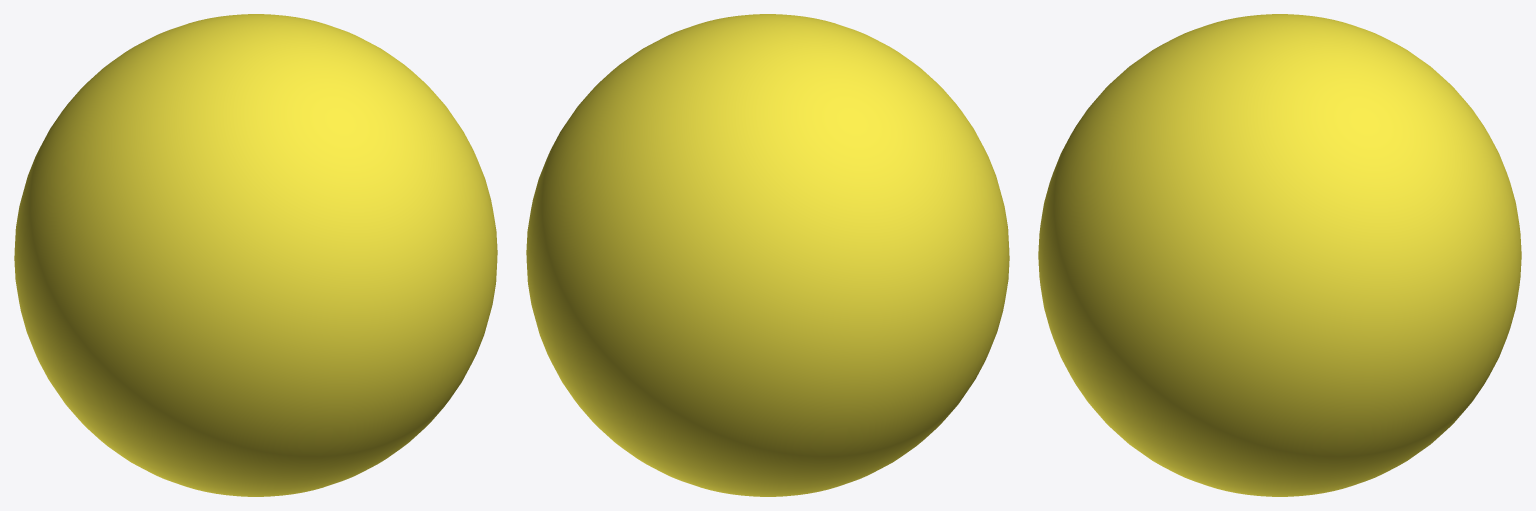
File: Neptune.glb
The picture shows the model from 3 angles, left to right: view 1: azimuth 30°, elevation 25°; view 2: azimuth 150°, elevation 25°; view 3: azimuth 270°, elevation 25°; orthographic projection.
Parts seen in each view (by area): view 1: SphereThree; view 2: SphereThree; view 3: SphereThree.
Part boxes in pixels (<box>): SphereThree: <box>14,14,497,496</box>; SphereThree: <box>526,14,1009,496</box>; SphereThree: <box>1038,14,1521,496</box>.
Size of the model in its own units: 1917 by 1917 by 1917.
